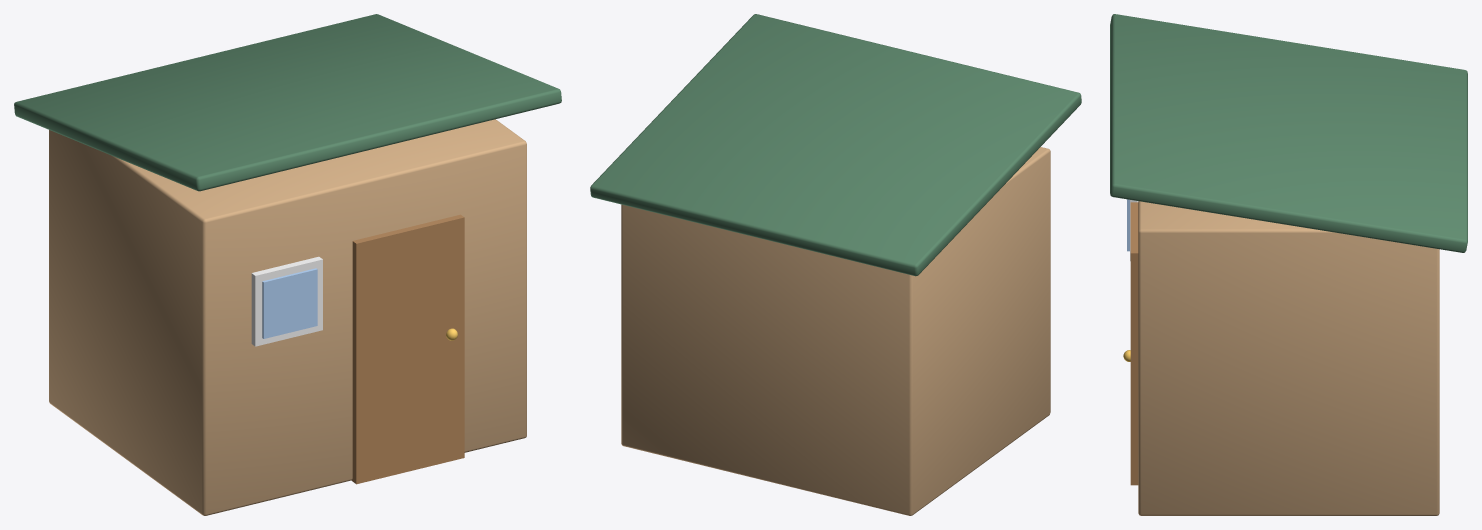
Rendered from garden_shed.glb.
3 renders of one model, left to right at view 1: azimuth 30°, elevation 25°; view 2: azimuth 150°, elevation 25°; view 3: azimuth 270°, elevation 25°, orthographic. The views are drawn at different scales.
Visible parts, largest first — view 1: garden_shed; view 2: garden_shed; view 3: garden_shed.
Boxes of the visible parts, x1=… form: garden_shed: x1=14, y1=14, x2=561, y2=515; garden_shed: x1=590, y1=14, x2=1081, y2=515; garden_shed: x1=1110, y1=14, x2=1467, y2=515.
Bounding box in the file's own units: 2.7 × 2.5 × 2.37.
